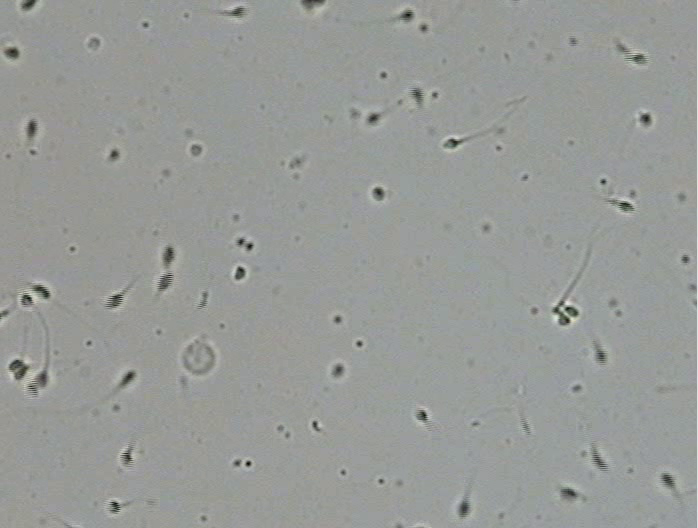Impurity: (183, 340, 215, 375), (86, 37, 100, 50)
S: (8, 359, 29, 381), (591, 449, 609, 472), (157, 272, 174, 291), (32, 283, 51, 300), (105, 293, 125, 309), (161, 244, 175, 266), (625, 51, 647, 65), (659, 471, 675, 489), (616, 199, 636, 213), (25, 119, 38, 139), (300, 1, 326, 11), (409, 87, 424, 104), (35, 370, 49, 388), (457, 500, 471, 518), (593, 346, 607, 364), (560, 487, 578, 501), (20, 292, 35, 308), (121, 370, 136, 386), (120, 451, 134, 468), (227, 6, 246, 18), (399, 8, 414, 23), (26, 382, 40, 397), (107, 500, 121, 515), (331, 363, 345, 378), (371, 187, 385, 202), (3, 47, 20, 59), (442, 137, 458, 149), (415, 408, 428, 422), (234, 266, 246, 281), (20, 1, 37, 11), (107, 149, 120, 162), (190, 143, 203, 156), (557, 313, 570, 326), (640, 112, 652, 126), (565, 305, 579, 317), (366, 113, 381, 124)
